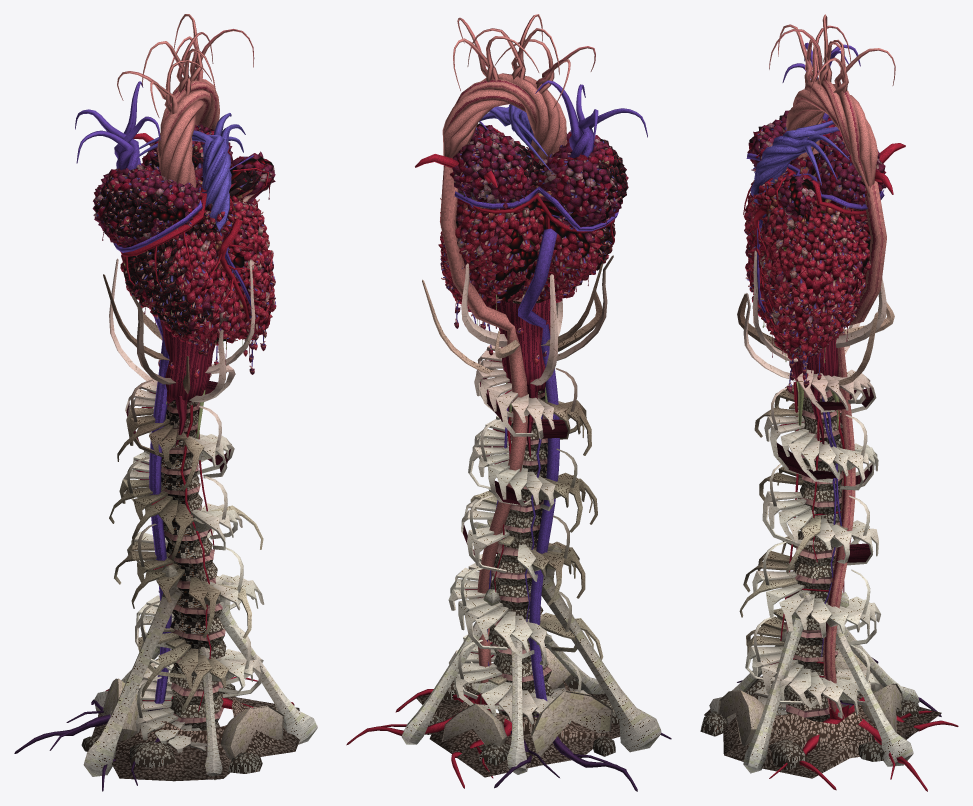
The model's file is s_gut_heart.glb.
The picture shows the model from 3 angles, left to right: view 1: azimuth 30°, elevation 25°; view 2: azimuth 150°, elevation 25°; view 3: azimuth 270°, elevation 25°; orthographic projection.
Visible parts, largest first — view 1: gh_tower, gh_heart, gh_creep; view 2: gh_tower, gh_heart, gh_creep; view 3: gh_tower, gh_heart, gh_creep.
Boxes of the visible parts, x1=… form: gh_tower: x1=81, y1=258, x2=317, y2=781; gh_heart: x1=75, y1=14, x2=276, y2=374; gh_creep: x1=14, y1=316, x2=294, y2=791; gh_tower: x1=401, y1=255, x2=661, y2=777; gh_heart: x1=415, y1=14, x2=647, y2=355; gh_creep: x1=346, y1=165, x2=671, y2=791; gh_tower: x1=700, y1=250, x2=941, y2=778; gh_heart: x1=743, y1=14, x2=905, y2=393; gh_creep: x1=737, y1=181, x2=958, y2=791.
Size of what is drawn, in the model's own units: 19.66 by 50.45 by 16.66.
Materials: 4 (4 with a texture image).
